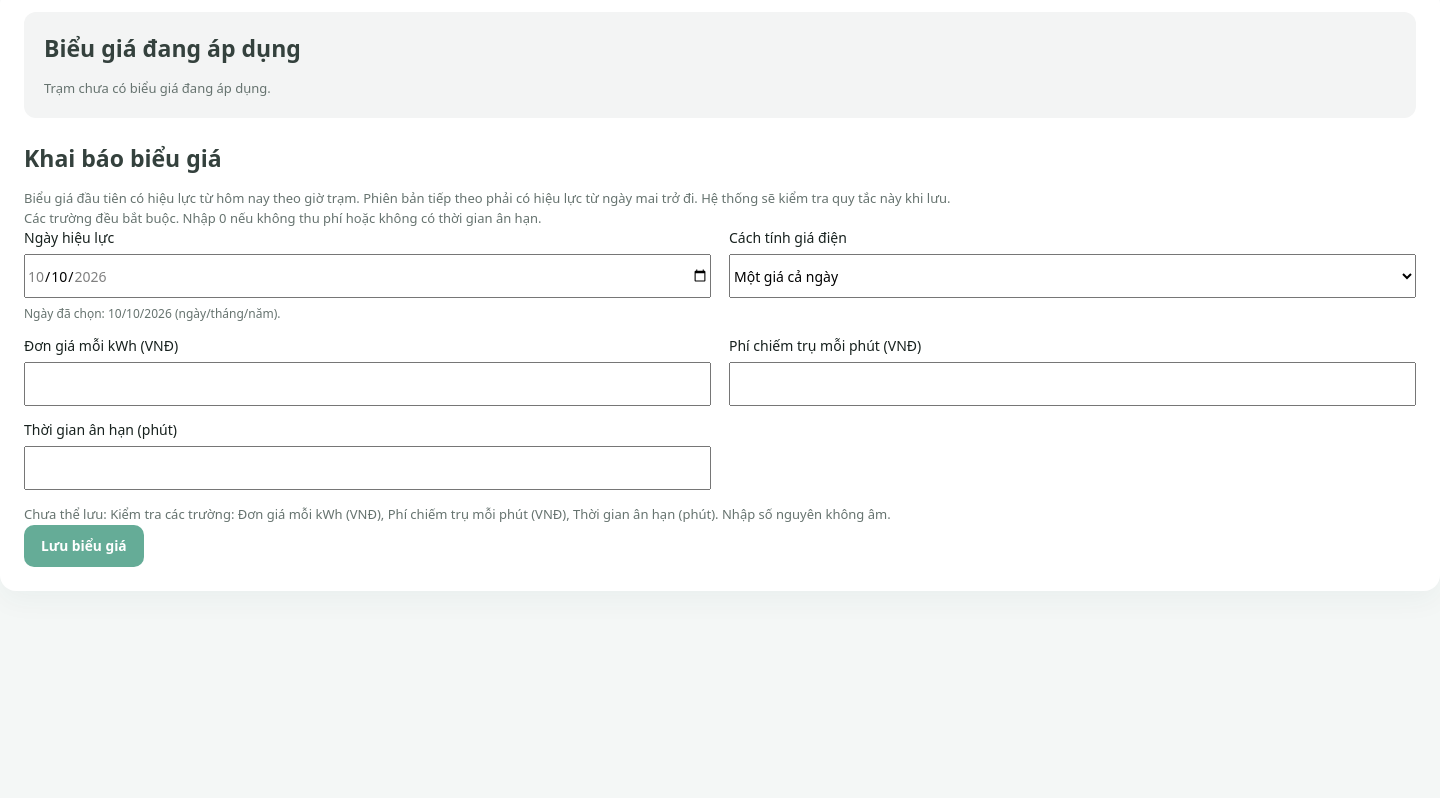
Test: supports deleting all rows and rejects empty coverage
This screenshot has width=1440, height=798.
Select "Nhiều khung giờ" in the dropdown labelled "Cách tính giá điện": (1072, 276) [729,254,1416,298]
(page scrolled)
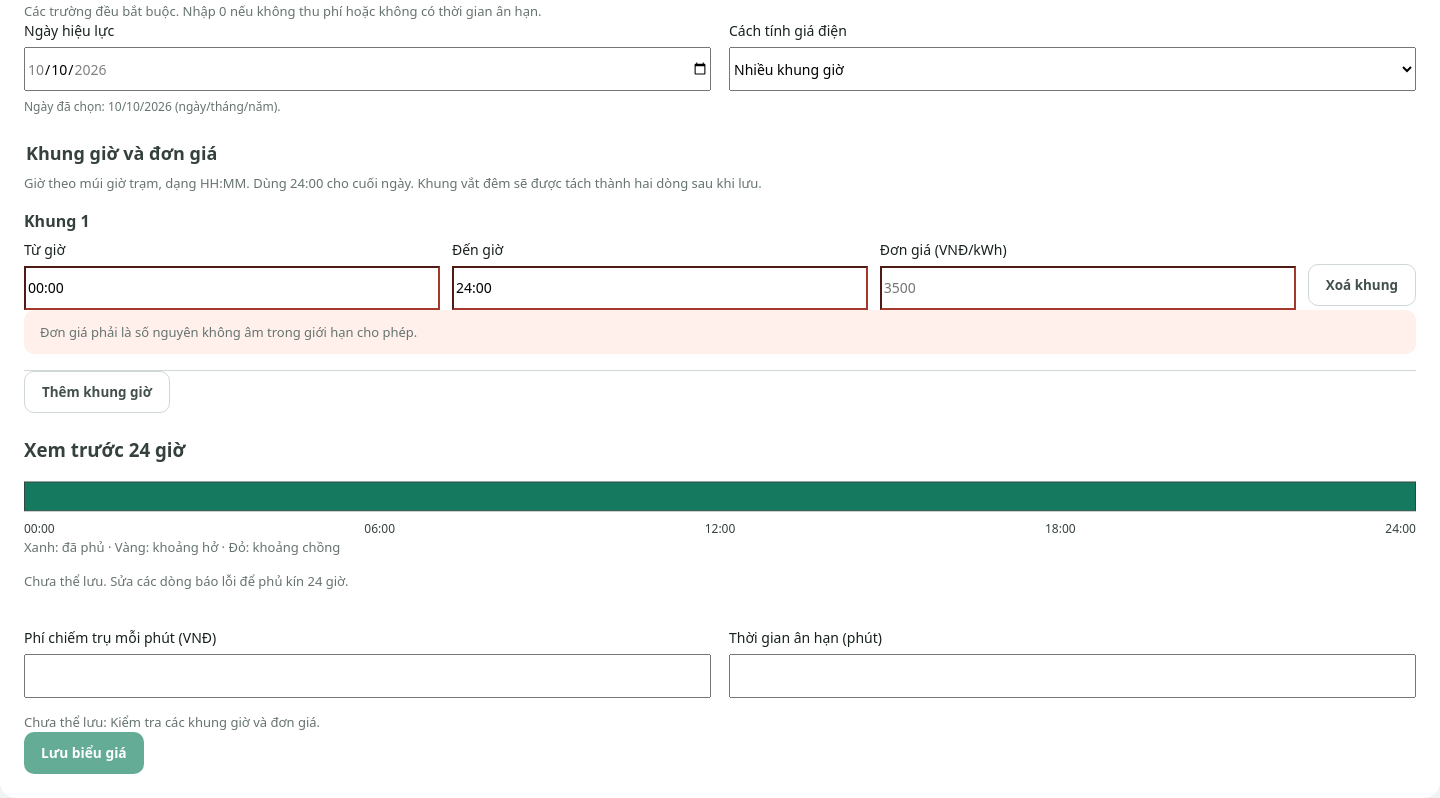
In the field labelled "Phí chiếm trụ mỗi phút (VNĐ)": (368, 676) [24,654,711,698], type "500"
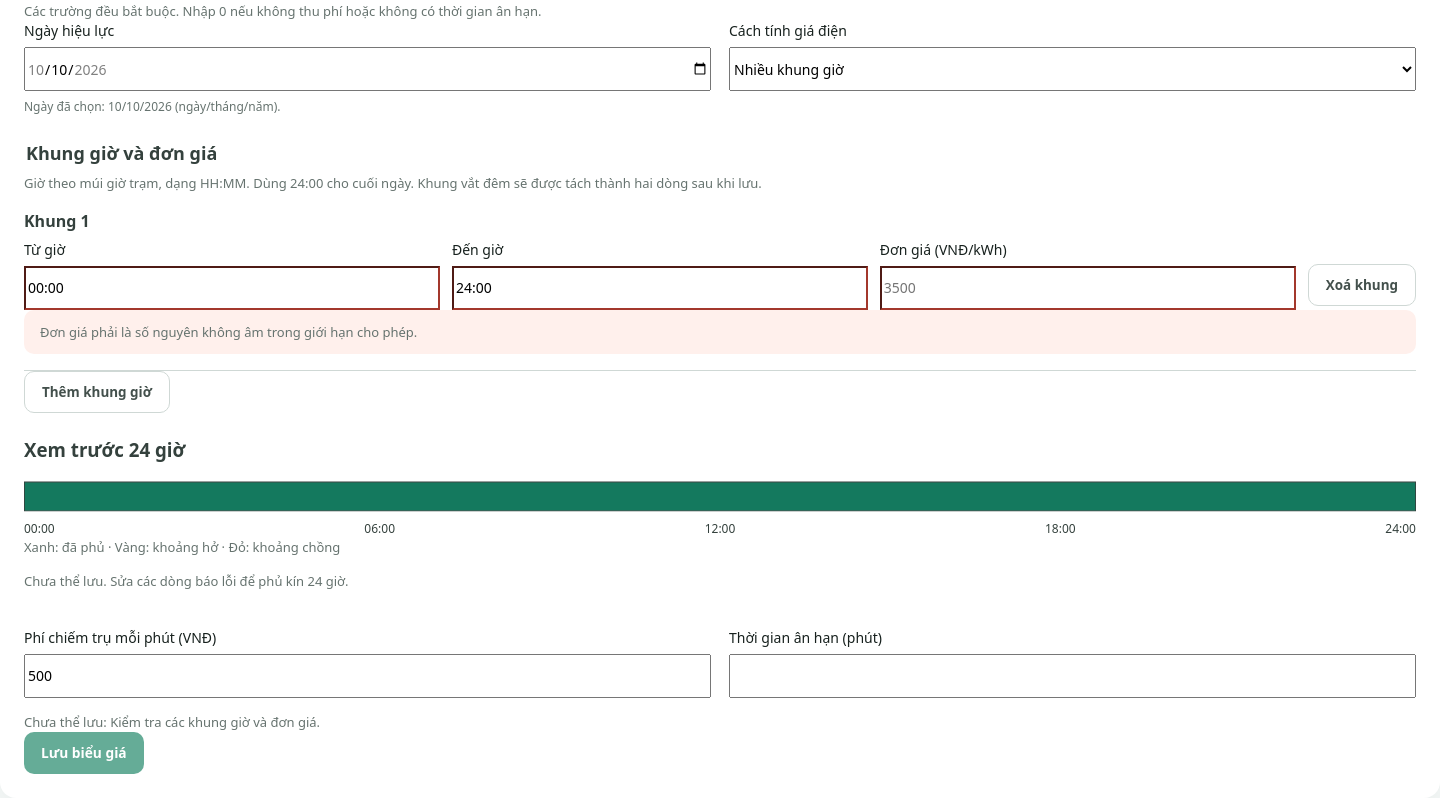
In the field labelled "Thời gian ân hạn (phút)": (1072, 676) [729,654,1416,698], type "5"
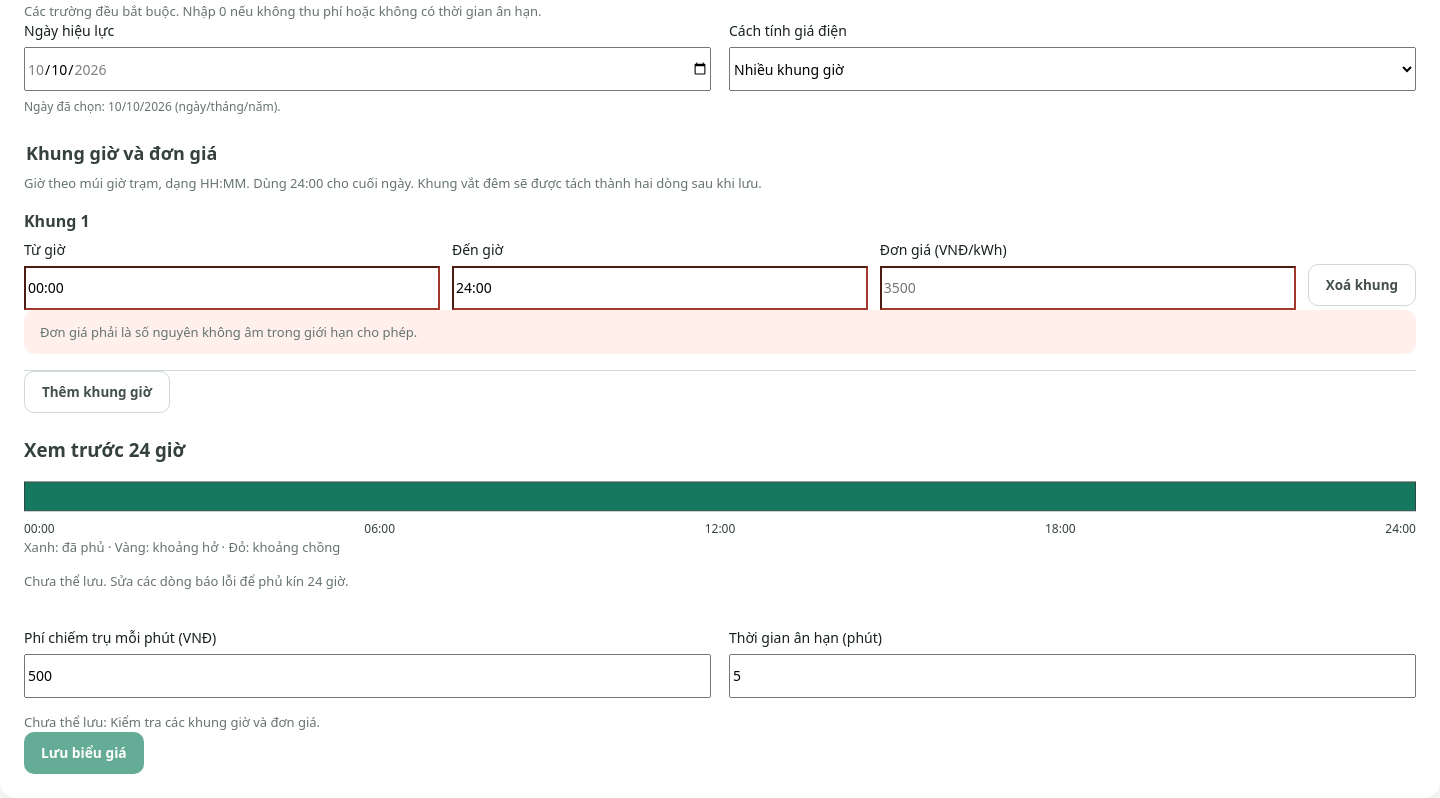
Click the button with aria-label "Xoá khung 1": click(1362, 285) [1308,264,1416,306]
(page scrolled)
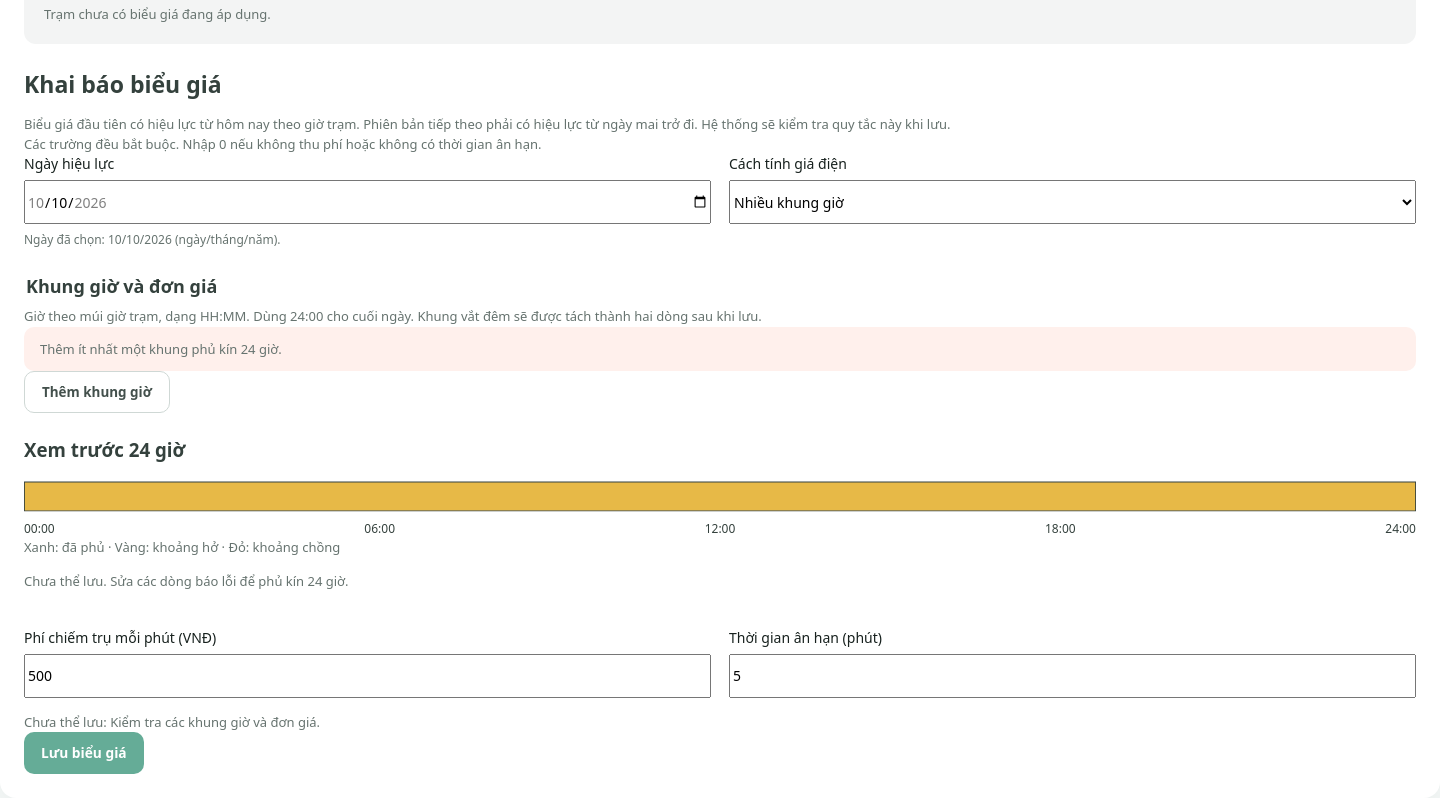
expect the button "Lưu biểu giá" is disabled: met, box [24,732,144,774]
expect the text "Thêm ít nhất một khung phủ kín 24 giờ." is shown: met, box [24,327,1416,371]
